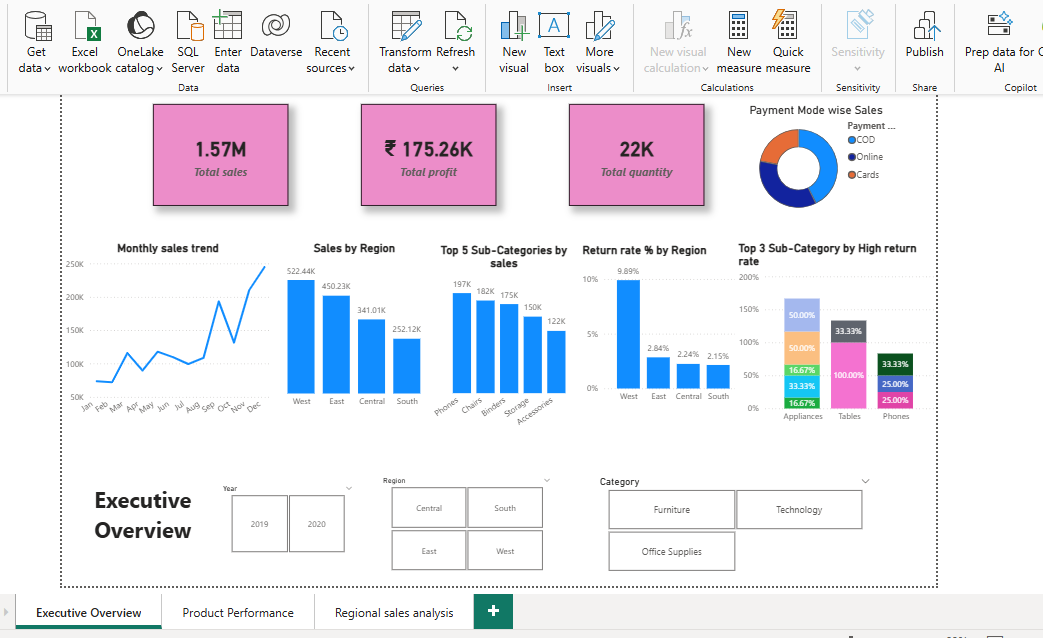

Layout of this report page (visuals, bound fields, positions):
{"tool":"powerbi","page":{"name":"Executive Overview","canvas":[1280,720],"ordinal":0},"visuals":[{"type":"card","fields":{"Values":["Sheet1.Total sales"]},"box":[133.2,14.6,197.6,149.3],"z":0},{"type":"card","fields":{"Values":["Sheet1.Total quantity"]},"box":[742,14.6,197.6,149.3],"z":1000},{"type":"card","fields":{"Values":["Sheet1.Total profit"]},"box":[437.6,14.6,197.6,149.3],"z":2000},{"type":"lineChart","title":"Monthly sales trend","fields":{"Y":["Sum(Sheet1.Sales)"],"Category":["Sheet1.Month name"]},"box":[0,215.1,310.2,275.1],"z":3000},{"type":"columnChart","title":"Sales by Region","fields":{"Y":["Sum(Sheet1.Sales)"],"Category":["Sheet1.Region"]},"box":[304.4,215.1,247.3,253.2],"z":4000},{"type":"columnChart","title":"Top 5 Sub-Categories by sales","fields":{"Category":["Sheet1.Sub-Category"],"Y":["Sheet1.Total sales"]},"box":[537.1,218,219.5,289.8],"z":5000},{"type":"slicer","fields":{"Values":["Sheet1.Year"]},"box":[222.4,566.3,215.1,111.2],"z":6000},{"type":"slicer","fields":{"Values":["Sheet1.Region"]},"box":[456.6,554.6,270.7,149.3],"z":7000},{"type":"slicer","fields":{"Values":["Sheet1.Category"]},"box":[774,555,421,150],"z":8000},{"type":"textbox","box":[15,566,207,150],"z":9000},{"type":"donutChart","title":"Payment Mode wise Sales","fields":{"Category":["Sheet1.Payment Mode"],"Y":["Sheet1.Total sales"]},"box":[1001,13.2,232.7,172.7],"z":10000},{"type":"columnChart","fields":{"Y":["Sheet1.Return rate %"],"Category":["Sheet1.Region"]},"box":[756.6,218,244.4,242.9],"z":11000},{"type":"columnChart","title":"Top 3 Sub-Category by High return rate","fields":{"Y":["Sheet1.Return rate %"],"Category":["Sheet1.Sub-Category"],"Series":["Sheet1.Product Name"]},"box":[984.9,215.1,295.6,275.1],"z":12000}]}

Visuals, with their boxes on the page's 1280x720 design canvas (x1, y1, x2, y2). These are canvas units, not pixel positions in the 1043x638 screenshot, which may show the page scaled, cropped or inside an application window:
card - Sheet1.Total sales: detection(133, 15, 331, 164)
card - Sheet1.Total quantity: detection(742, 15, 940, 164)
card - Sheet1.Total profit: detection(438, 15, 635, 164)
"Monthly sales trend" lineChart: detection(0, 215, 310, 490)
"Sales by Region" columnChart: detection(304, 215, 552, 468)
"Top 5 Sub-Categories by sales" columnChart: detection(537, 218, 757, 508)
slicer - Sheet1.Year: detection(222, 566, 438, 678)
slicer - Sheet1.Region: detection(457, 555, 727, 704)
slicer - Sheet1.Category: detection(774, 555, 1195, 705)
textbox: detection(15, 566, 222, 716)
"Payment Mode wise Sales" donutChart: detection(1001, 13, 1234, 186)
columnChart - Sheet1.Return rate % x Sheet1.Region: detection(757, 218, 1001, 461)
"Top 3 Sub-Category by High return rate" columnChart: detection(985, 215, 1280, 490)
